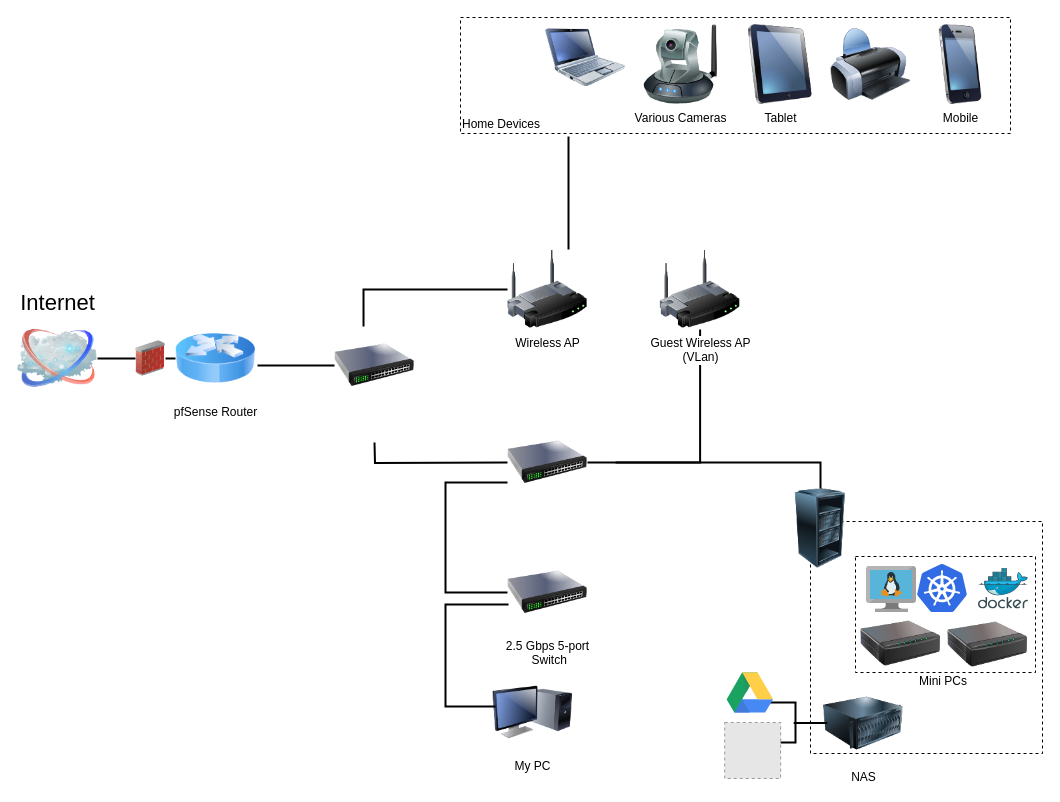
The diagram is 1060 pixels wide and 802 high, and some of its shapes have lost their labels. Grey dashed boxes stand in for pictures. The centre of each missing label's shape, as x and y in pixels:
"24 port Cisco Layer-2 switch" goes at (x=547, y=462).
"Laptop" goes at (x=585, y=57).
"Main Home Switch - 16 port" goes at (x=374, y=365).
"Printer" goes at (x=870, y=64).
"Server Rack" goes at (x=820, y=528).
